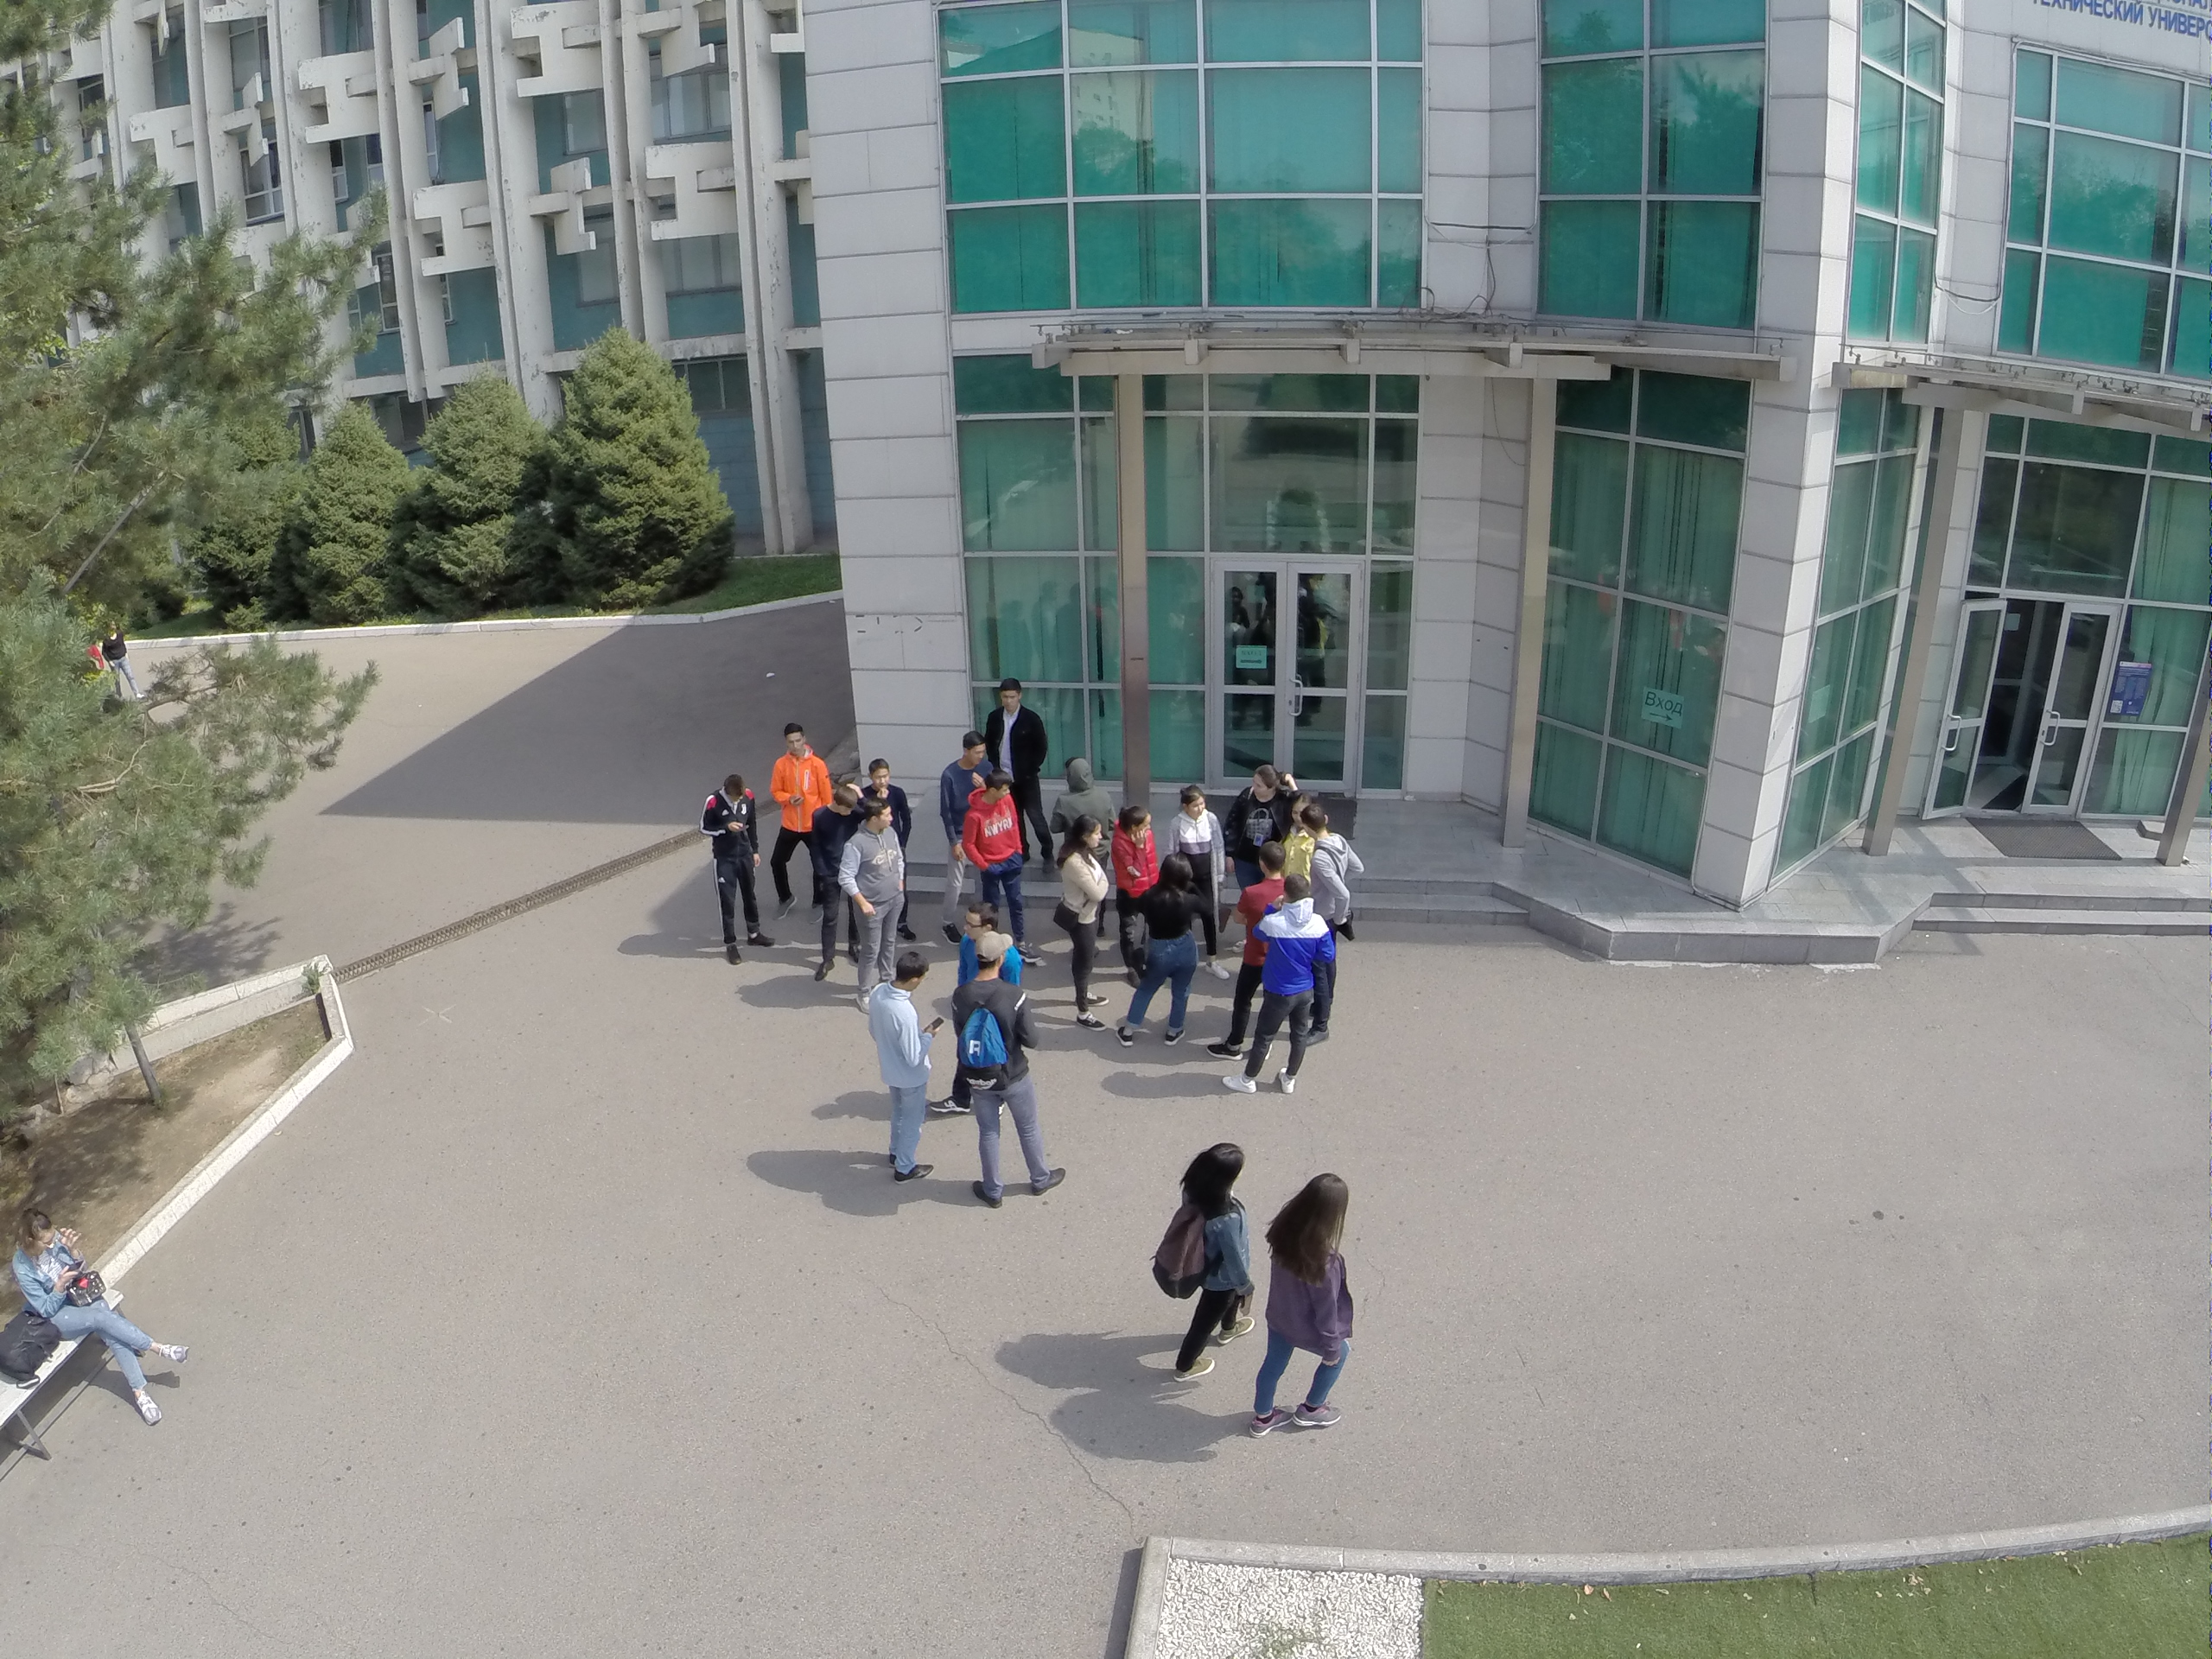person: (16, 1203, 192, 1428), (957, 929, 1070, 1203), (1249, 1173, 1360, 1444), (1154, 1130, 1259, 1388), (1230, 871, 1319, 1099), (868, 946, 938, 1188), (696, 769, 778, 966), (1122, 855, 1192, 1052), (1051, 810, 1111, 1032), (768, 718, 827, 922), (957, 766, 1023, 893), (850, 799, 891, 982), (1306, 797, 1363, 919), (1227, 760, 1297, 840), (1164, 785, 1226, 859), (995, 674, 1045, 765), (1049, 751, 1113, 817), (811, 781, 865, 859), (938, 728, 996, 791), (1117, 801, 1159, 856), (963, 894, 1001, 938), (861, 760, 901, 794)
